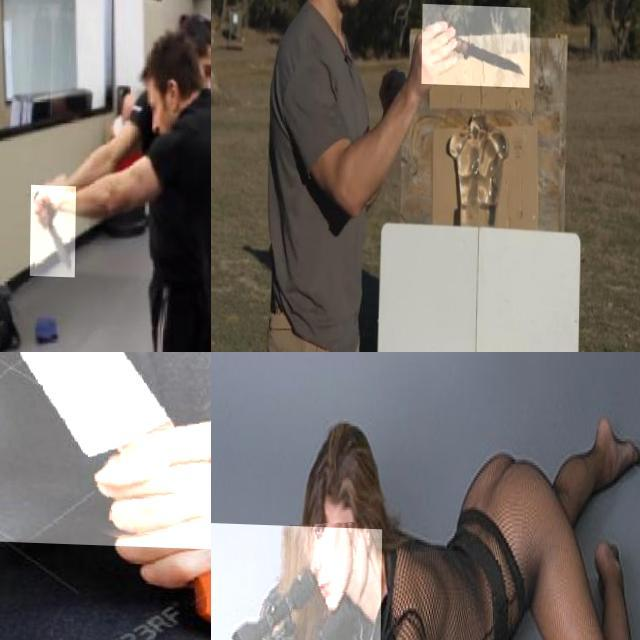-: (0, 352, 211, 580), (422, 1, 530, 84), (31, 184, 77, 276)
